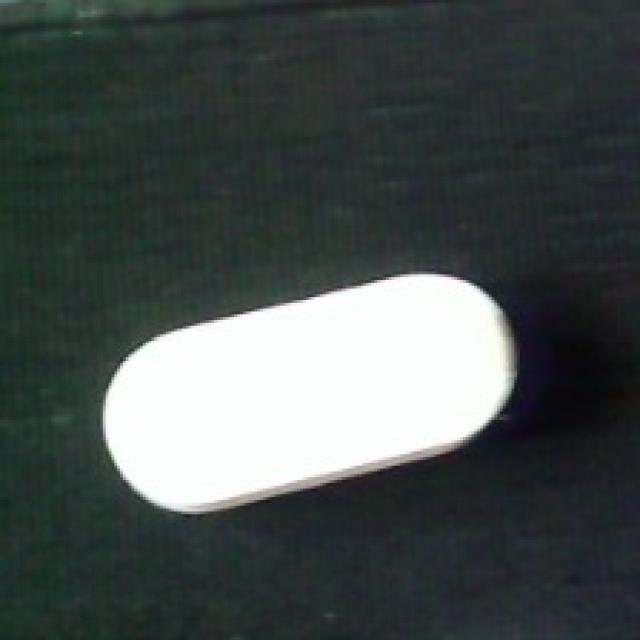no-defect: (94, 270, 517, 518)
